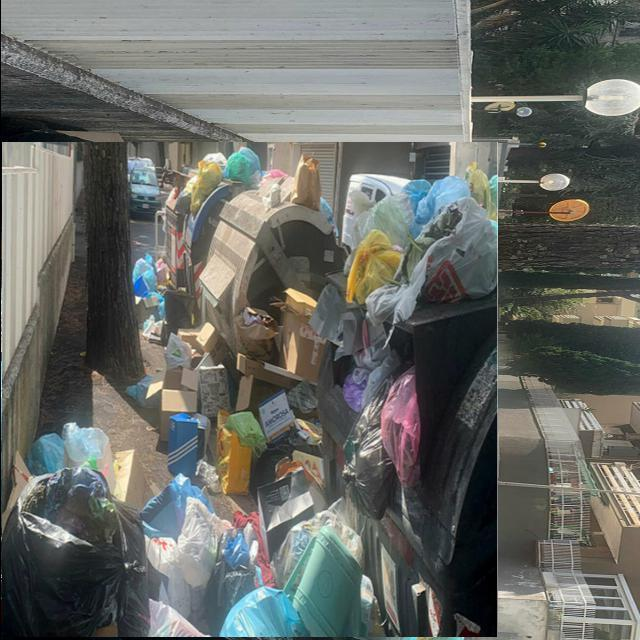Trashbag: (0, 459, 154, 640), (331, 408, 402, 516)
